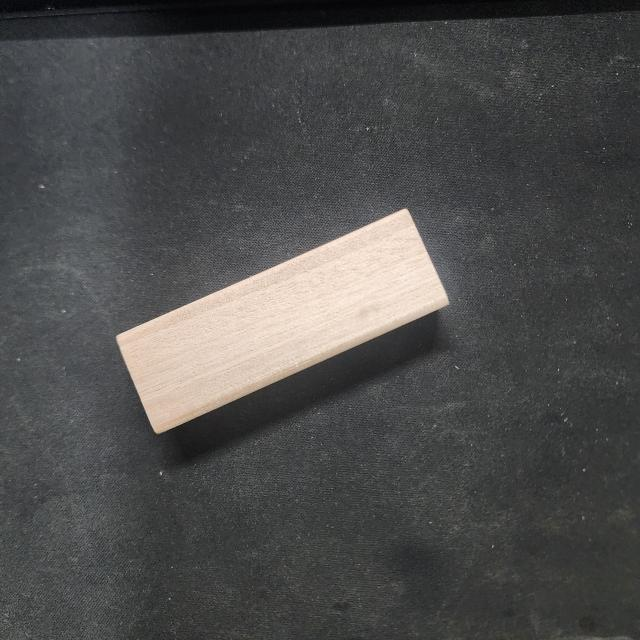wood: (111, 201, 450, 437)
